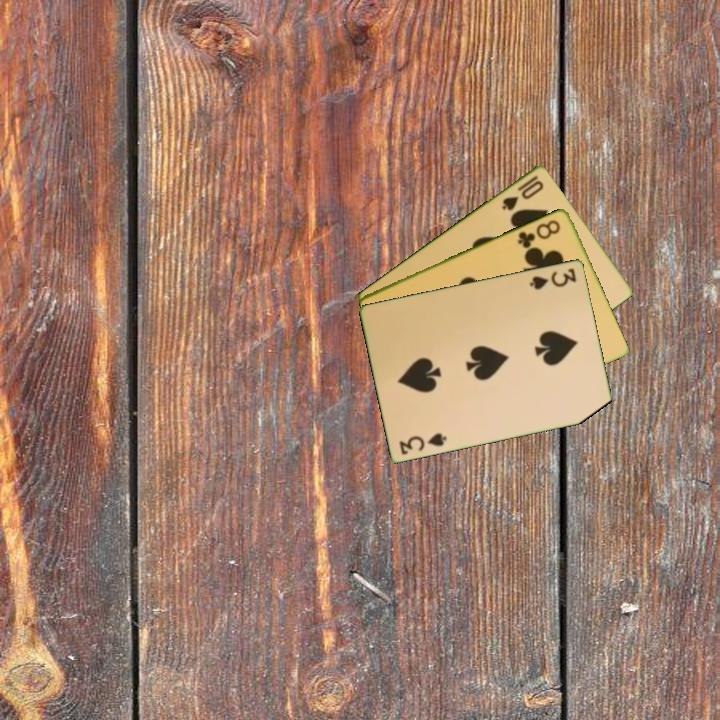10s: (498, 172, 547, 213)
3s: (396, 429, 450, 457), (526, 264, 579, 292)
8c: (514, 216, 563, 251)
